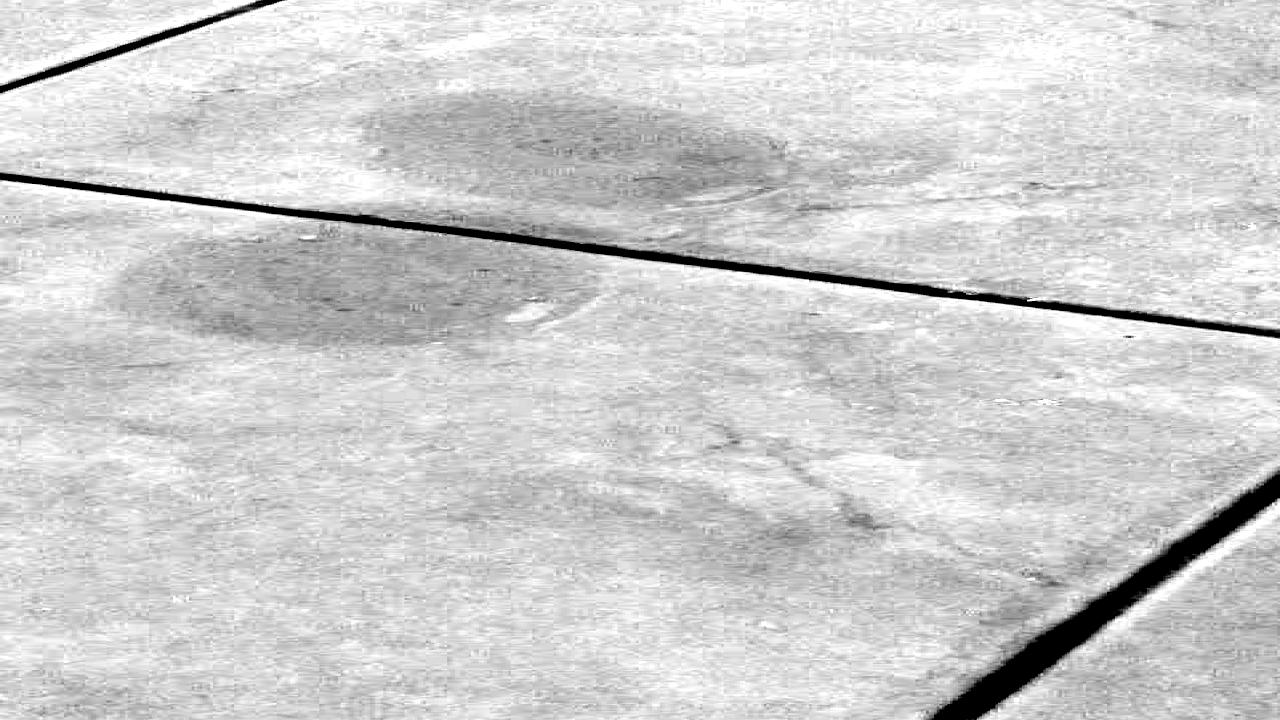drinks Stains: (93, 68, 798, 354)
